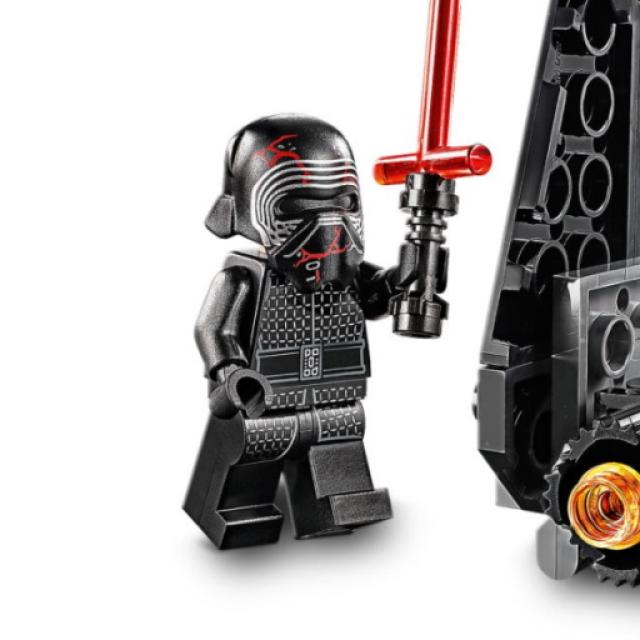Lego-Minifigures: (155, 93, 460, 559)
